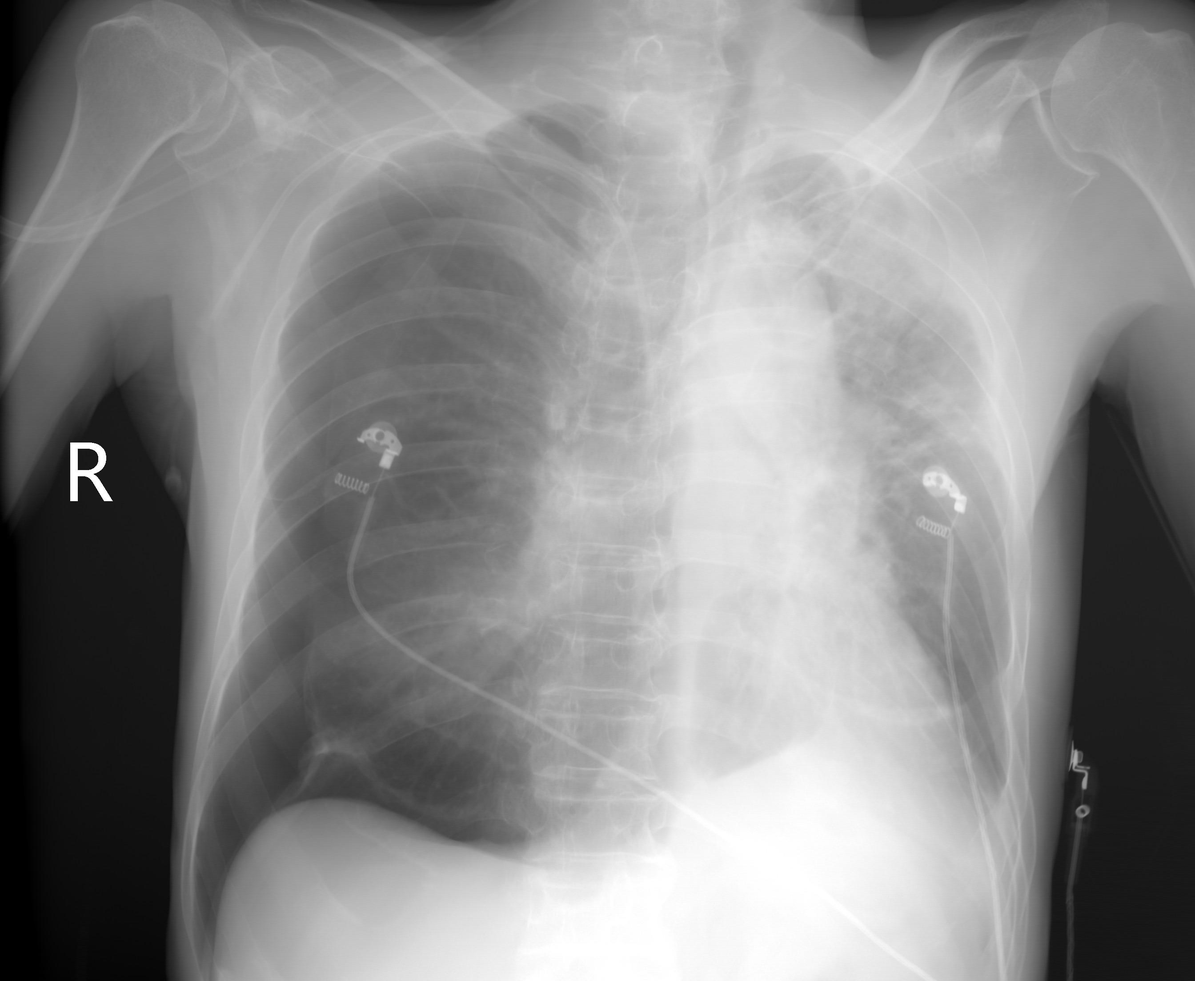Aortic enlargement: (650, 242, 842, 419)
Pleural thickening: (733, 120, 891, 193), (281, 720, 400, 812)
